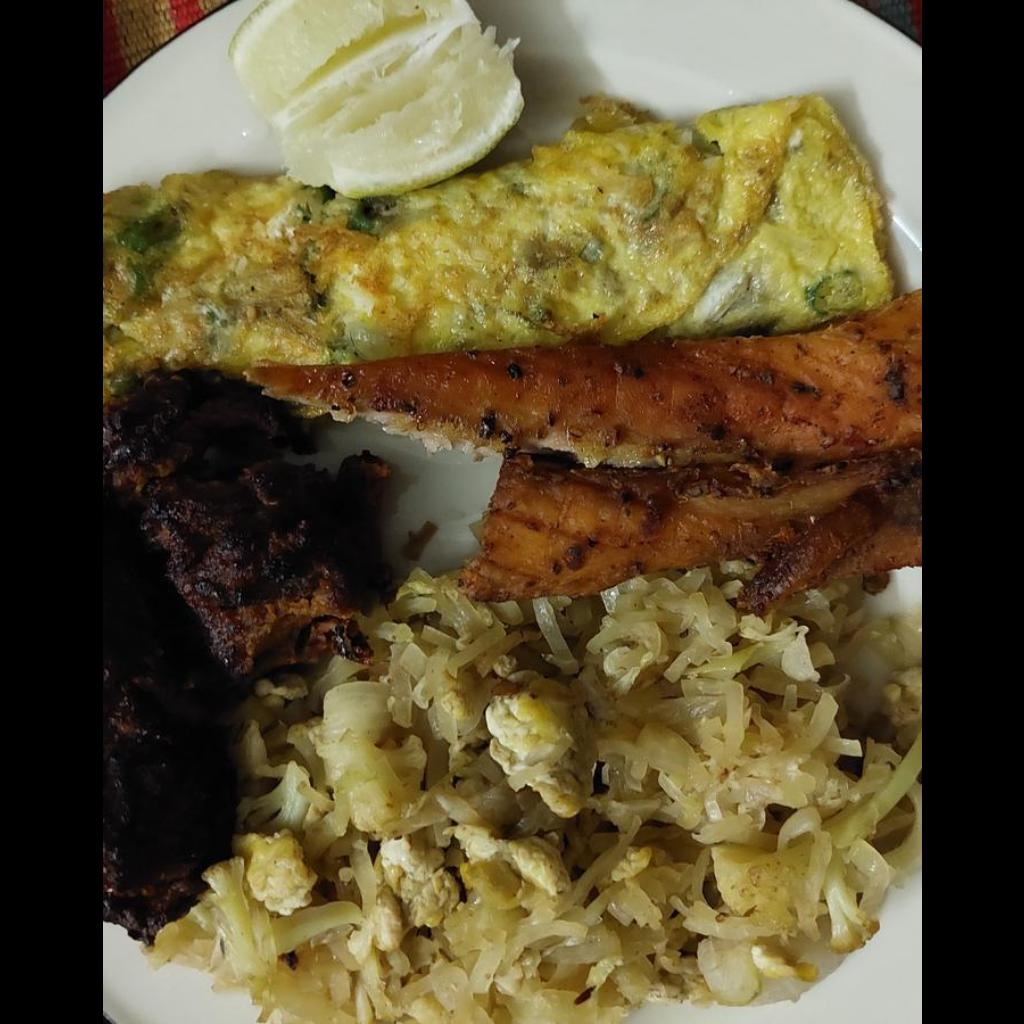egg-poached: (102, 92, 893, 365)
fish: (255, 294, 920, 613)
kabab: (102, 371, 352, 936)
lemon: (224, 1, 534, 193)
vaji: (160, 563, 920, 1023)
